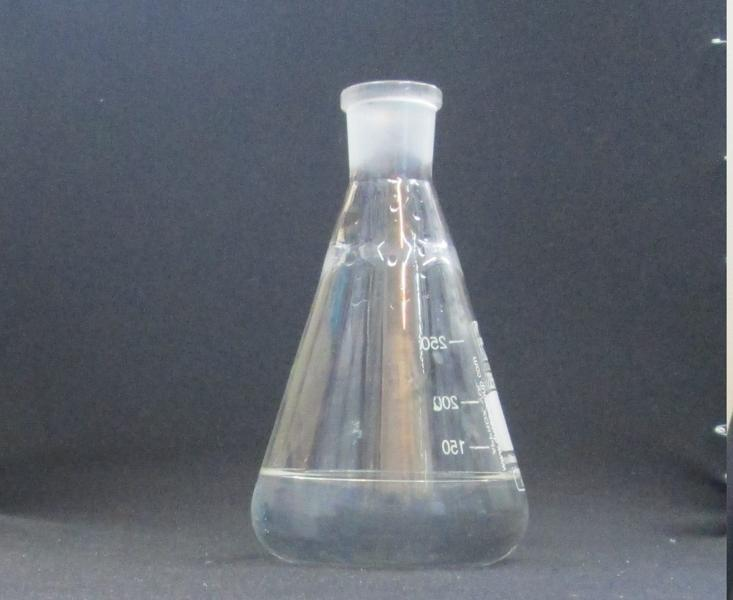Titrarion: (250, 68, 532, 569)
